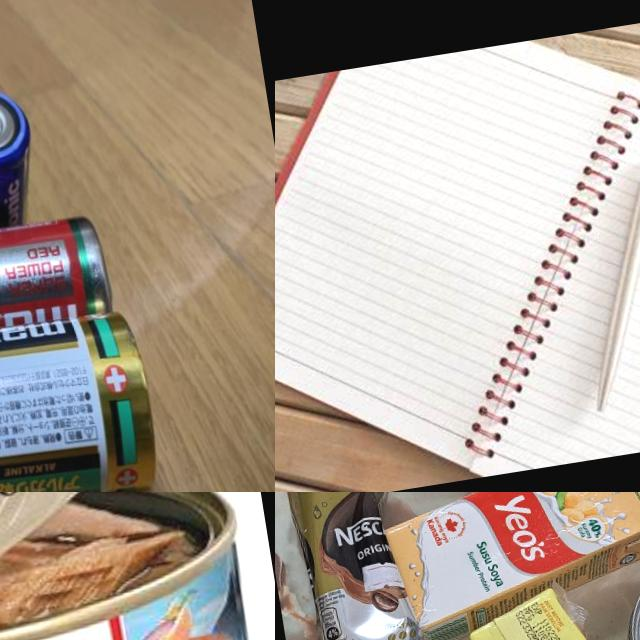bateria: (0, 301, 168, 492), (0, 208, 121, 351), (0, 85, 48, 243)
caixinha: (366, 492, 640, 640), (459, 579, 640, 640)
lata: (0, 492, 275, 640), (277, 492, 430, 640)
papel: (275, 0, 640, 492)
